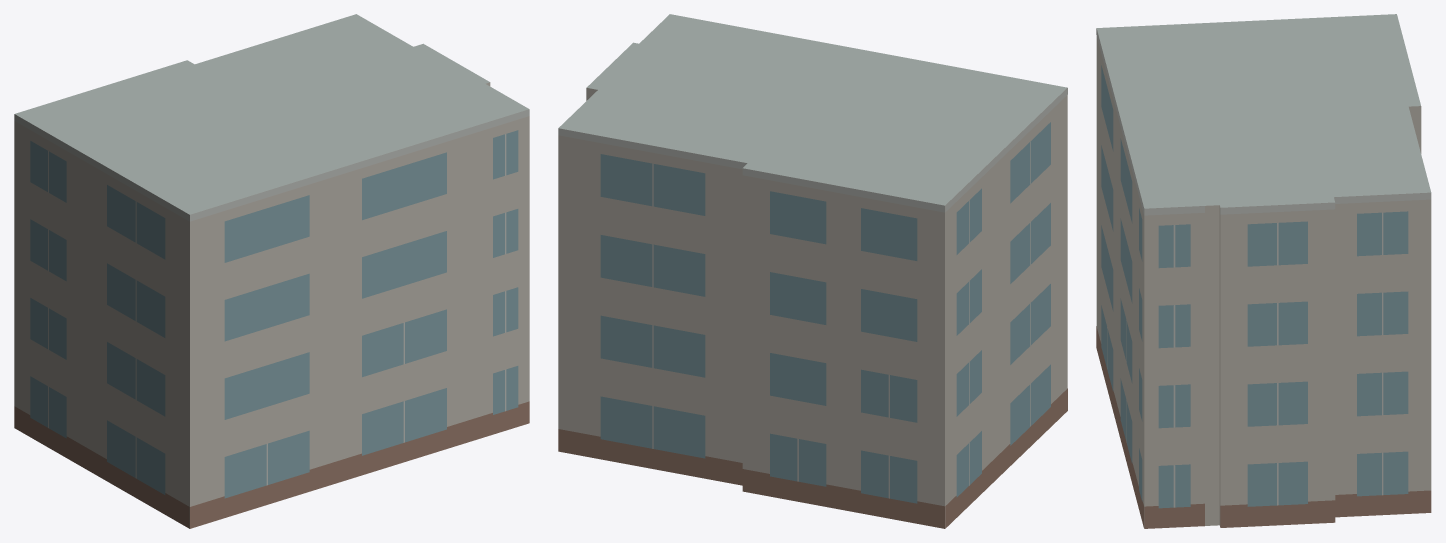
Rendered from survey-upis-32935897.glb.
3 views of the same model, side by side, from view 1: azimuth 30°, elevation 25°; view 2: azimuth 150°, elevation 25°; view 3: azimuth 270°, elevation 25° (orthographic). The views are drawn at different scales.
Parts seen in each view (by area): view 1: survey-upis-32935897.tmp; view 2: survey-upis-32935897.tmp; view 3: survey-upis-32935897.tmp.
Part boxes in pixels (x1,y1,x2,y2): survey-upis-32935897.tmp: (14, 14, 529, 528); survey-upis-32935897.tmp: (558, 14, 1067, 528); survey-upis-32935897.tmp: (1096, 14, 1431, 528).
Size of the model in its own units: 14.61 by 11.2 by 10.62.
